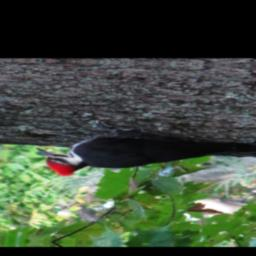Woodpecker: (31, 118, 256, 183)
